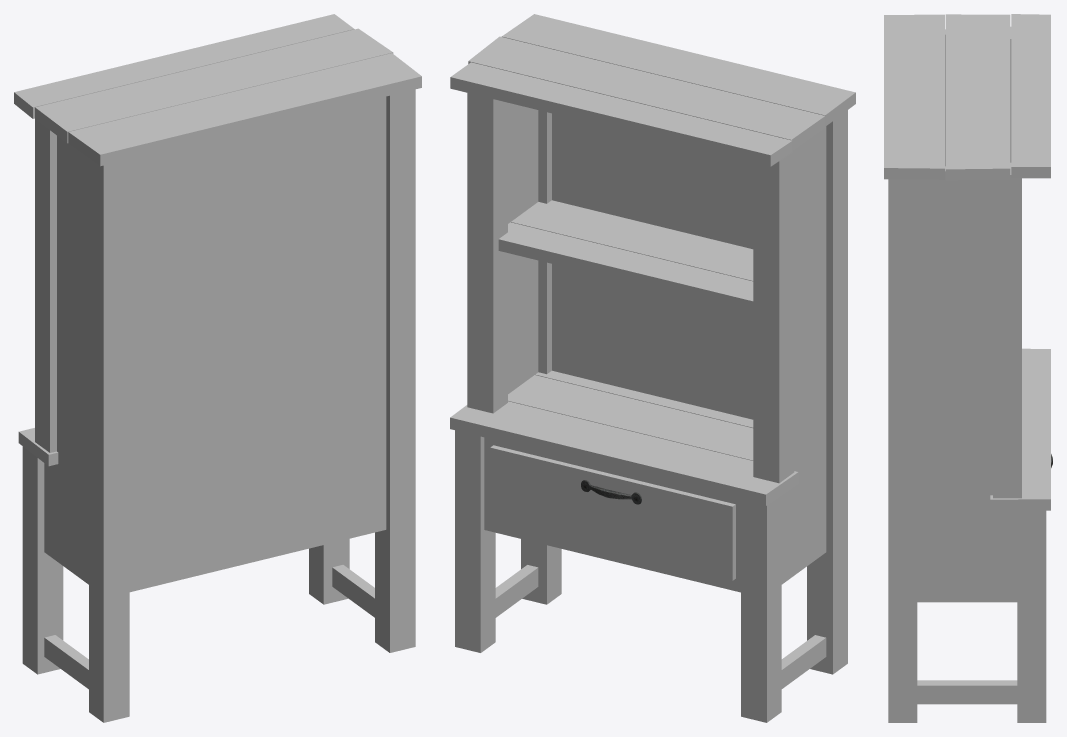
The model's file is mw_cupboard_03.FBX.
3 renders of one model, left to right at view 1: azimuth 30°, elevation 25°; view 2: azimuth 150°, elevation 25°; view 3: azimuth 270°, elevation 25°, orthographic. The views are drawn at different scales.
Visible parts, largest first — view 1: mw_cupboard_03; view 2: mw_cupboard_03; view 3: mw_cupboard_03.
Boxes of the visible parts, <box> form: mw_cupboard_03: <box>14,14,421,722</box>; mw_cupboard_03: <box>450,14,855,722</box>; mw_cupboard_03: <box>884,14,1052,722</box>.
Size of the model in its own units: 151 by 253 by 69.43.
